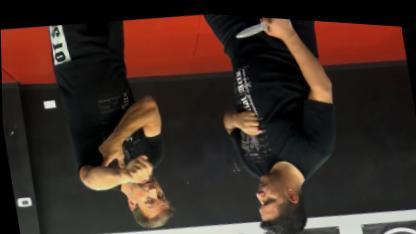knife: (229, 12, 297, 43)
